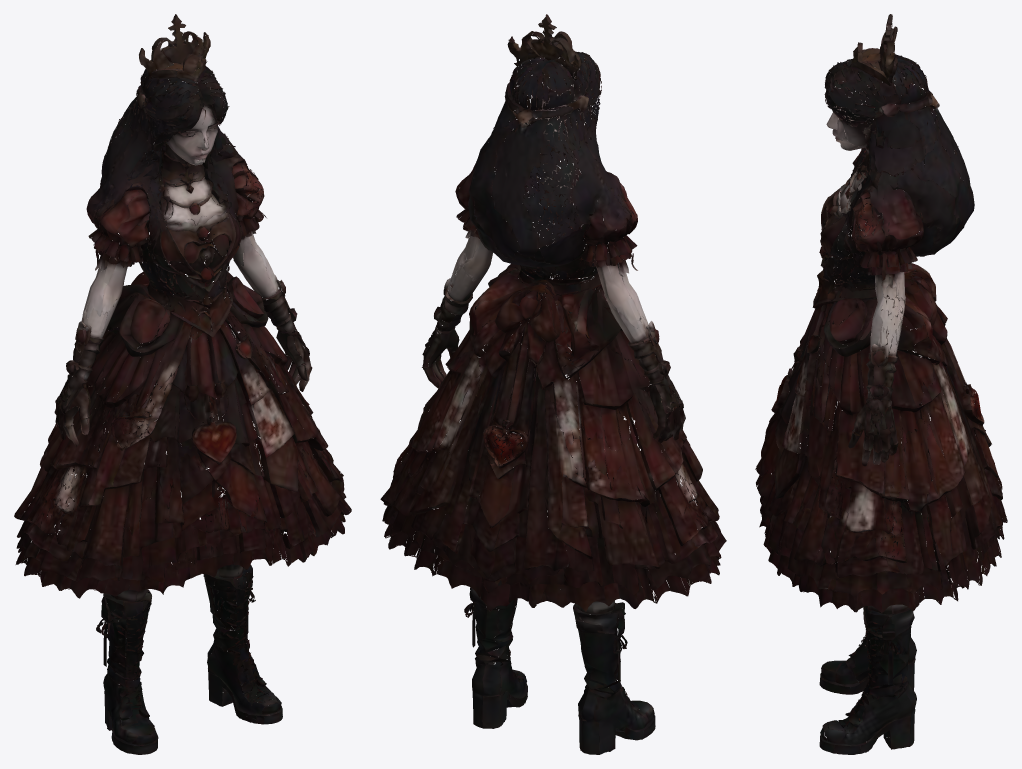
The model's file is alice-vestido-rainha.glb.
3 views of the same model, side by side, from view 1: azimuth 30°, elevation 25°; view 2: azimuth 150°, elevation 25°; view 3: azimuth 270°, elevation 25° (orthographic). The views are drawn at different scales.
Parts seen in each view (by area): view 1: node_0; view 2: node_0; view 3: node_0.
Boxes of the visible parts, box(x1,y1,x2,y2) form: node_0: box(14, 14, 351, 754); node_0: box(380, 14, 726, 754); node_0: box(755, 14, 1007, 754).
Bounding box in the file's own units: 0.545 × 1.17 × 0.3792.
Materials: 1 (1 with a texture image).
